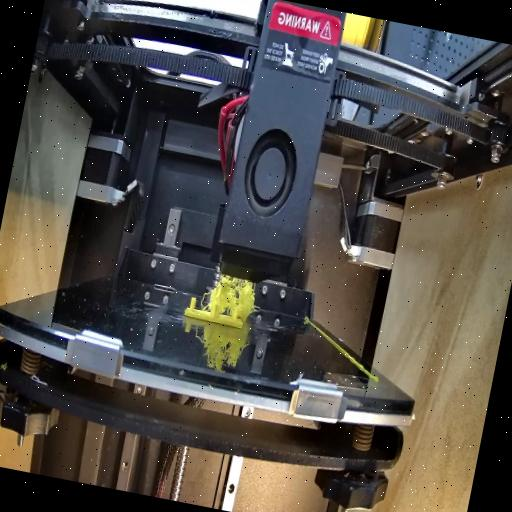spaghetti: (200, 268, 260, 322)
